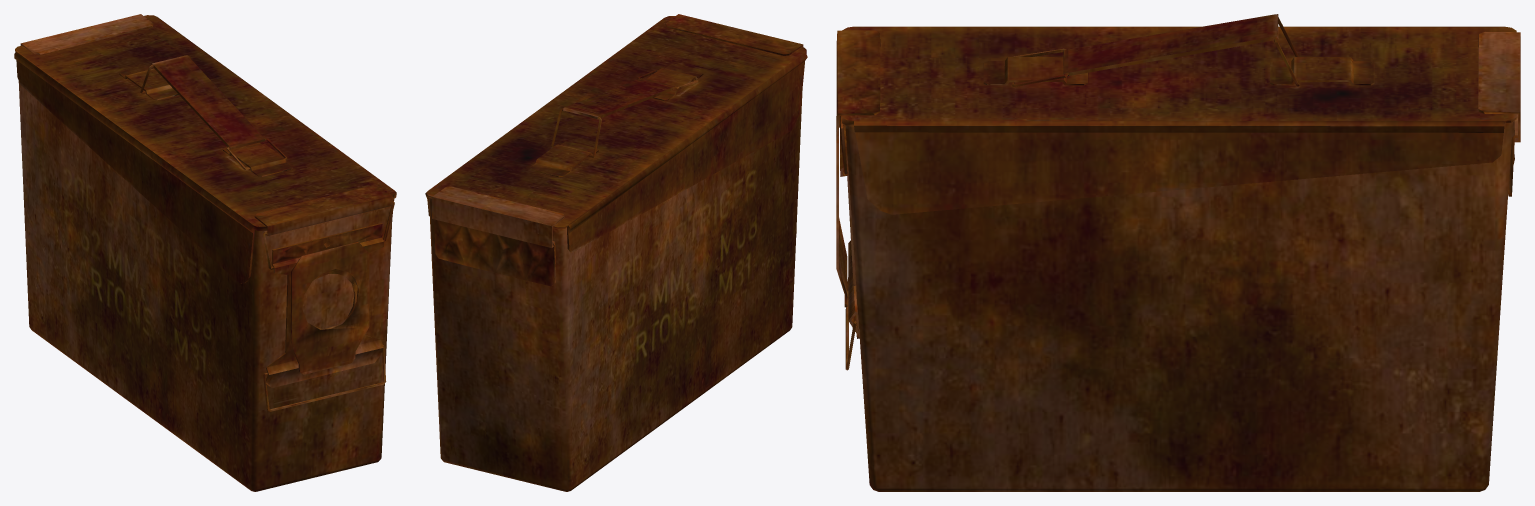
The model's file is ammo_box.glb.
3 renders of one model, left to right at view 1: azimuth 30°, elevation 25°; view 2: azimuth 150°, elevation 25°; view 3: azimuth 270°, elevation 25°, orthographic. The views are drawn at different scales.
Parts seen in each view (by area): view 1: ammo_box; view 2: ammo_box; view 3: ammo_box.
Part boxes in pixels (x1,y1,x2,y2): ammo_box: (14, 14, 396, 491); ammo_box: (425, 14, 807, 491); ammo_box: (836, 14, 1520, 491).
Size of what is drawn, in the model's own units: 0.0868 by 0.1773 by 0.2577.
1 material, 1 textured.
